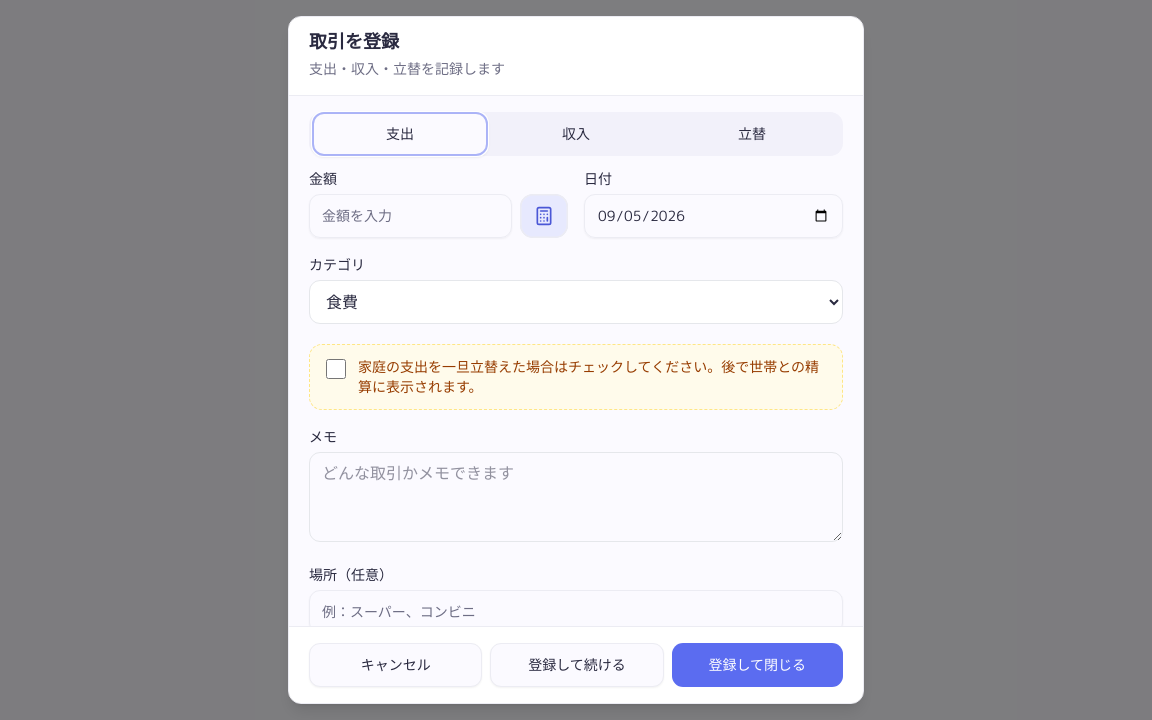
Test: TransactionModal › 登録して続けると日付等を維持し、金額・メモ・場所だけを空にする
The image size is (1152, 720).
Type "1200" into the field labelled "金額" at coordinates (410, 216), box [309,194,512,238]
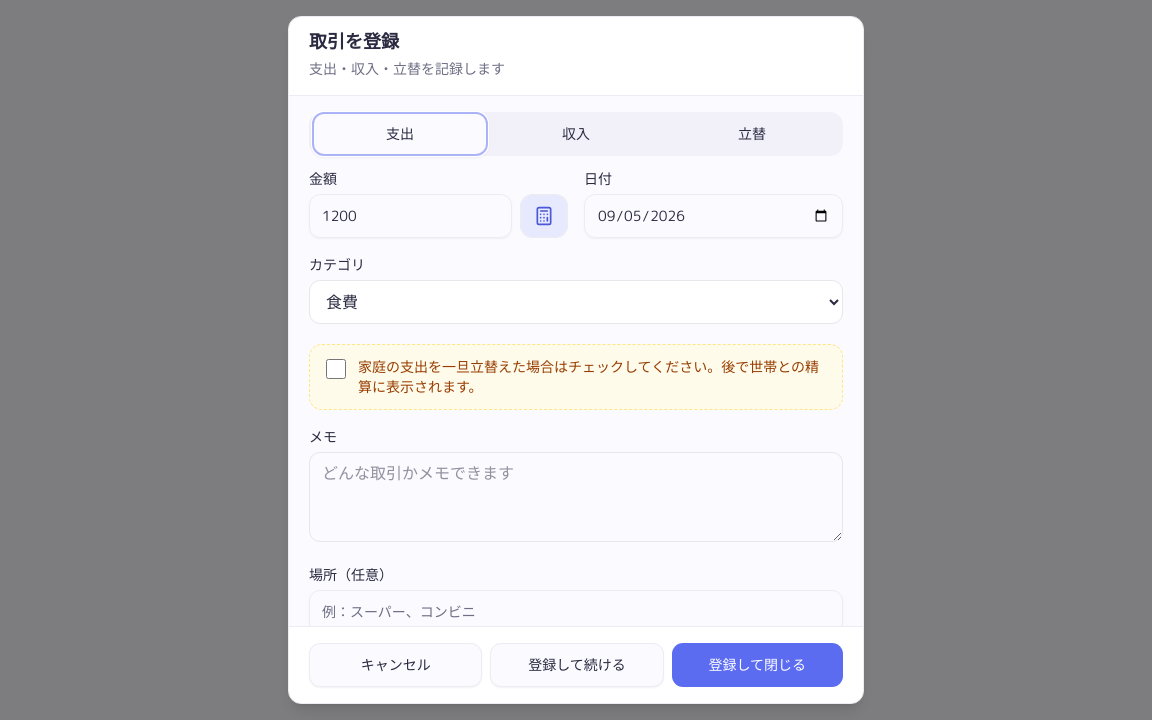
Type "ランチ" into the text box labelled "メモ" at coordinates (576, 497), box [309,452,843,542]
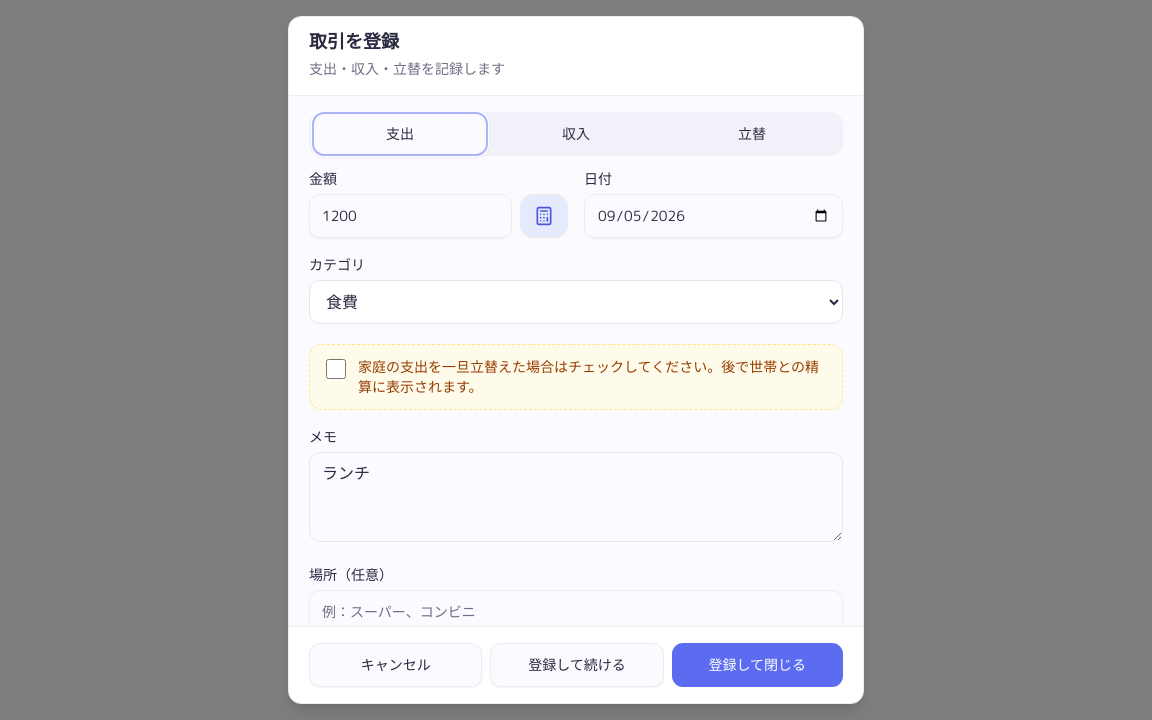
Type "食堂" into the dropdown labelled "場所（任意）" at coordinates (576, 612), box [309,590,843,634]
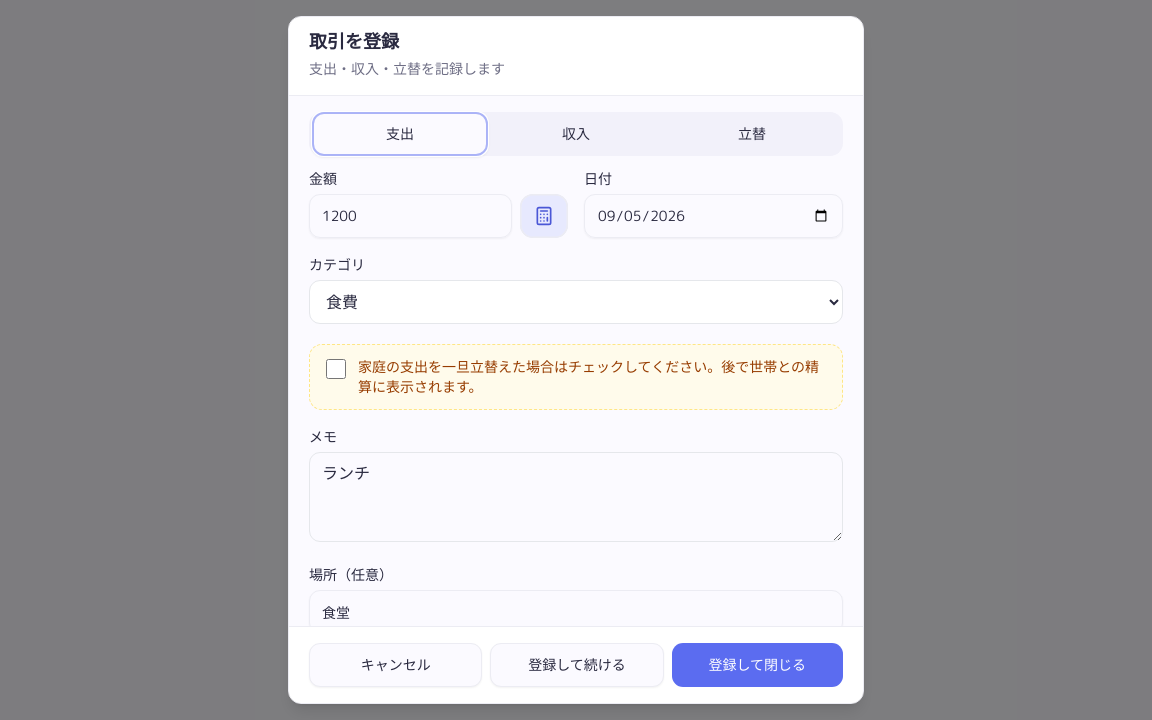
Click the button "登録して続ける" at coordinates (577, 665), box [490,643,664,687]
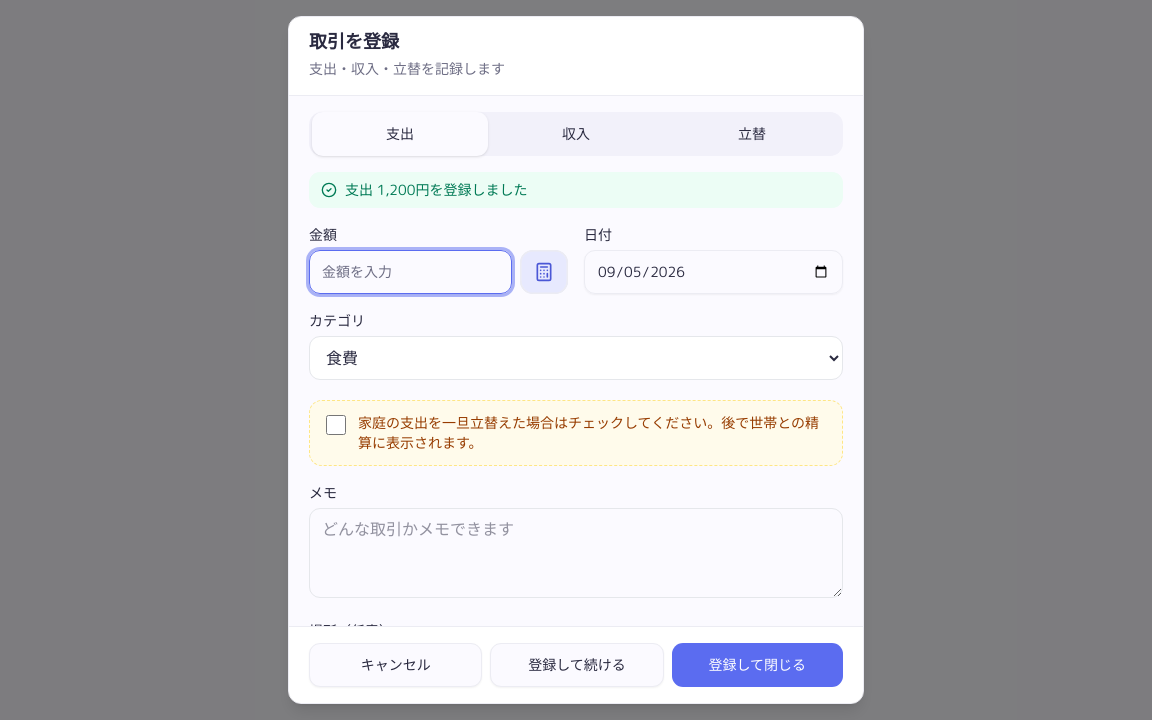
Result: the field labelled "金額" is empty at [309,250,512,294]
Result: the text box labelled "メモ" is empty at [309,508,843,598]
Result: the message shows "1,200円を登録しました" at [345,180,527,199]
